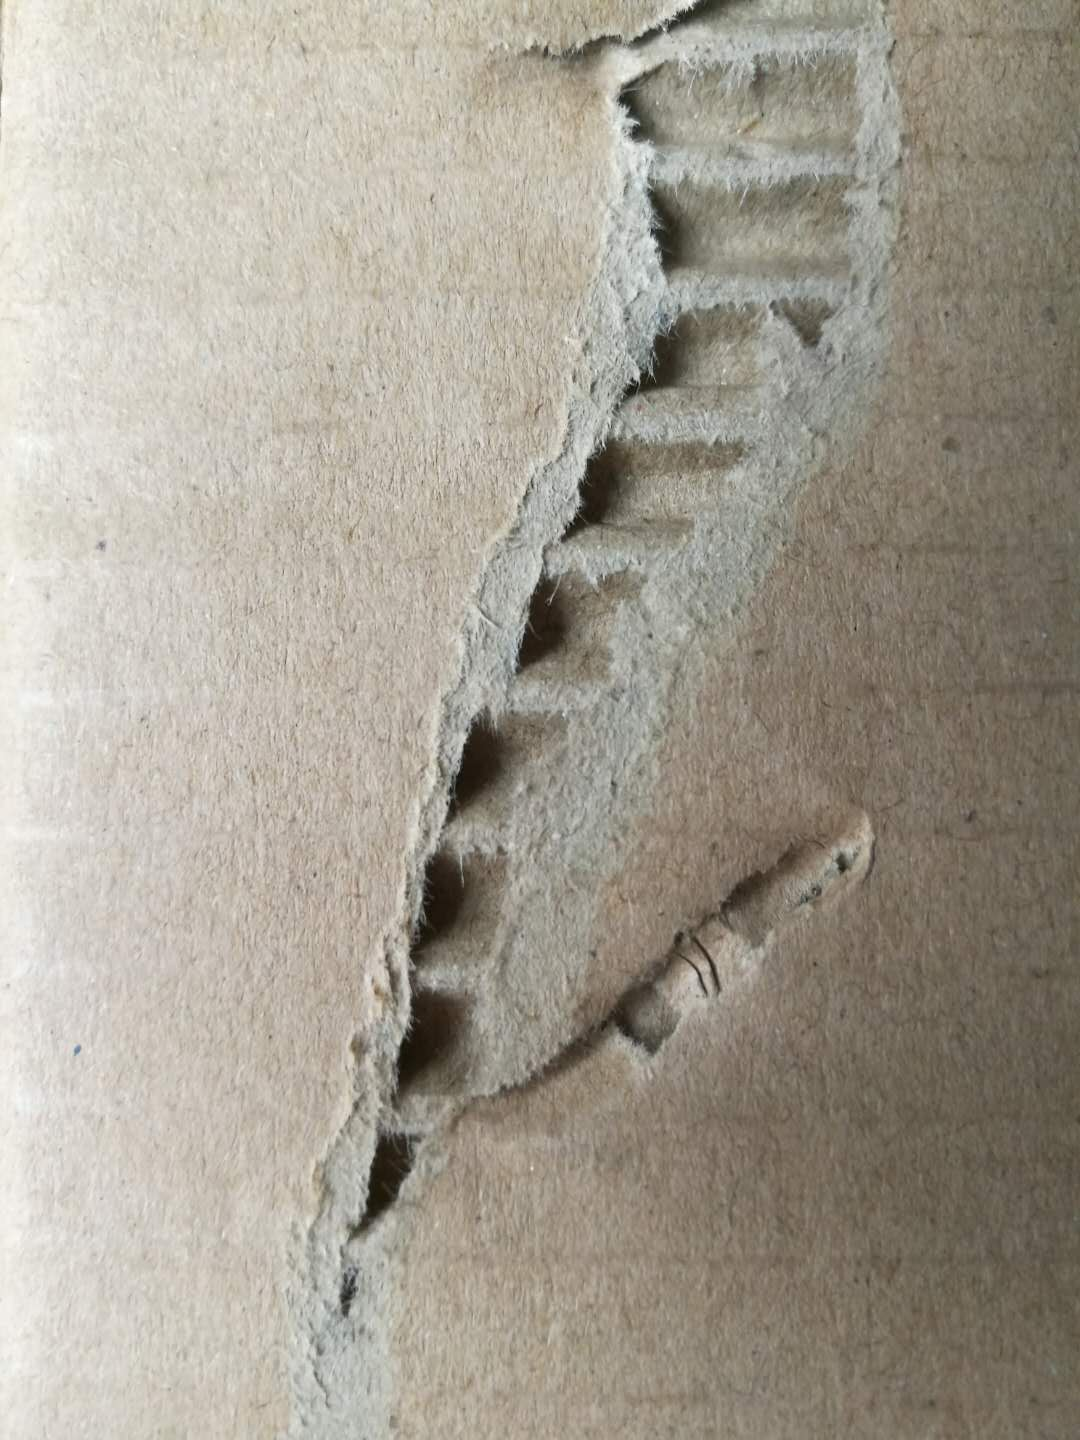defect: (174, 2, 1016, 1440)
